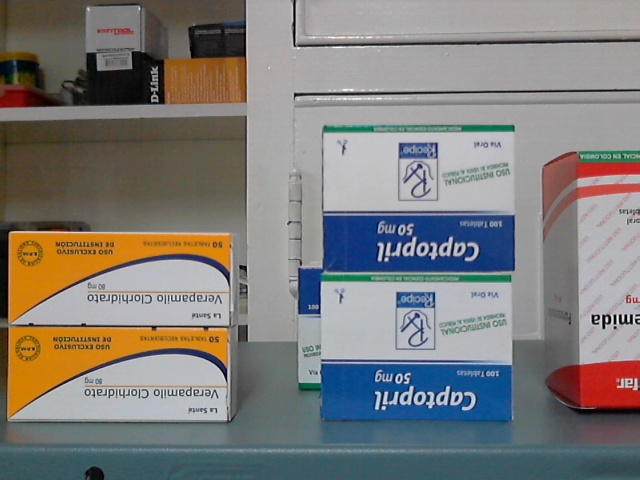LaSante: (9, 328, 230, 422), (10, 234, 230, 328)
